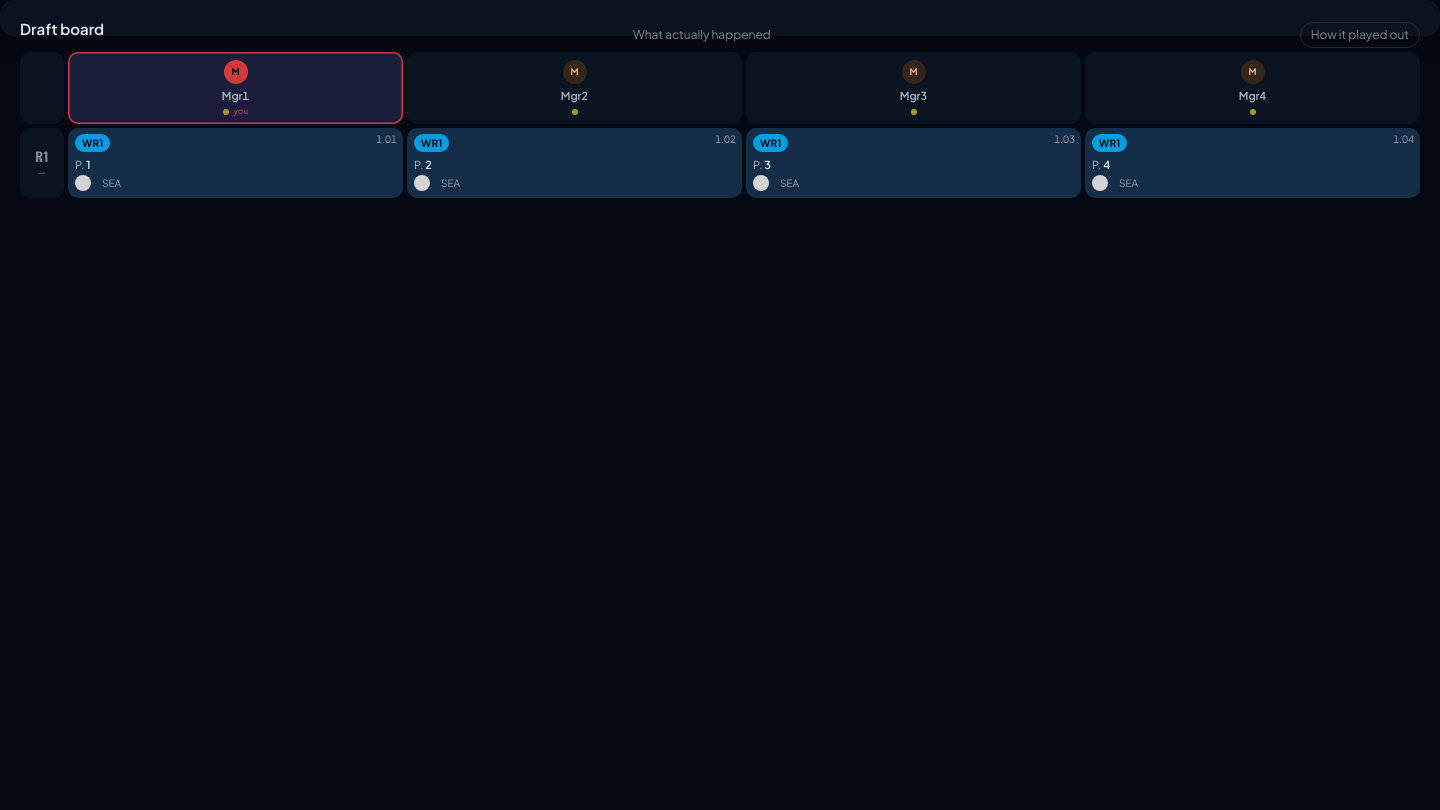
Test: CompletedDraftBoard steals & busts panel › lists steals and busts with name, round, pick, team and signed value
The width and height of the screenshot is (1440, 810).
Click the button "How it played out": [1360, 35] box [1300,22,1420,48]
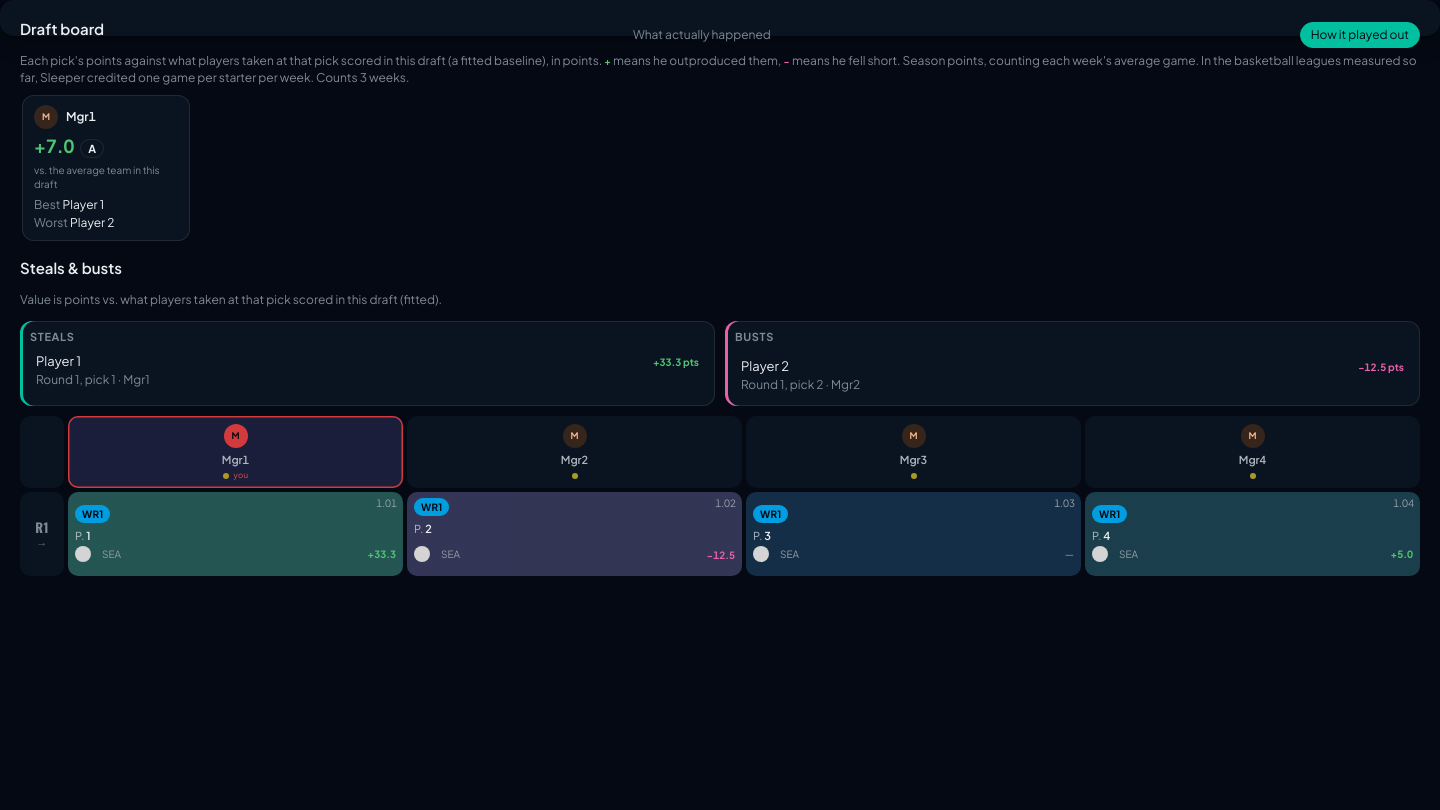
Result: the heading "Steals & busts" is shown at [20,258,122,277]
Result: the element with class "sb-steals" shows "Player 1" at [36,354,81,370]
Result: the element with class "sb-steals" shows "Round 1, pick 1" at [20,320,715,406]
